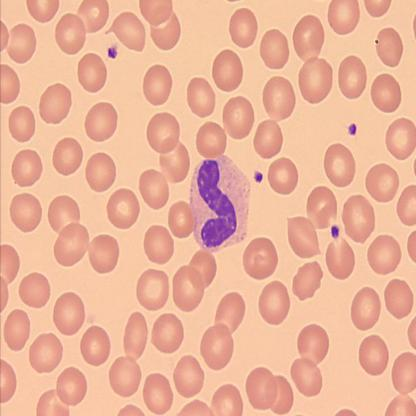Band Neutrophil: (188, 154, 254, 255)
